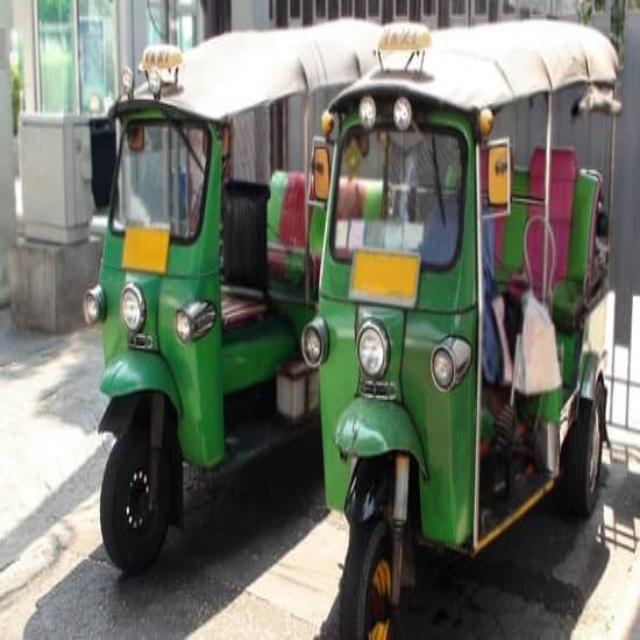Motorcycle: (300, 17, 620, 640), (83, 17, 381, 578)
